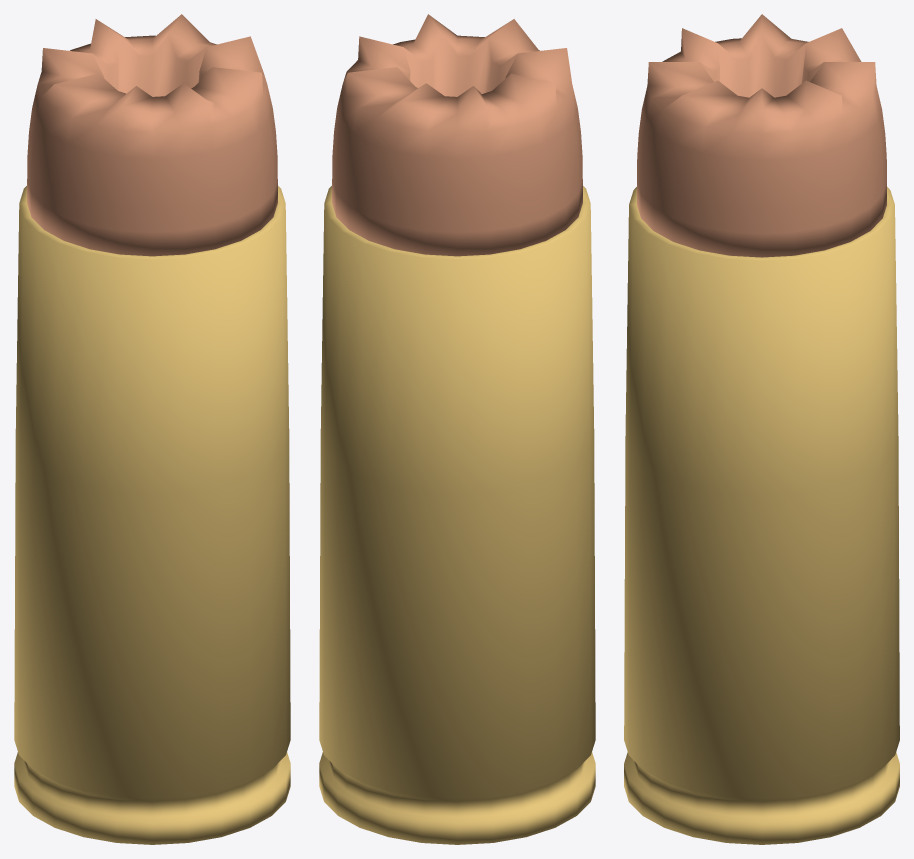
3 renders of one model, left to right at view 1: azimuth 30°, elevation 25°; view 2: azimuth 150°, elevation 25°; view 3: azimuth 270°, elevation 25°, orthographic.
Parts seen in each view (by area): view 1: vaina, bala_flor; view 2: vaina, bala_flor; view 3: vaina, bala_flor.
Boxes of the visible parts, x1,y1,x2,y2 form: vaina: [14, 186, 290, 844]; bala_flor: [27, 14, 277, 256]; vaina: [319, 186, 595, 844]; bala_flor: [332, 14, 582, 256]; vaina: [624, 187, 899, 844]; bala_flor: [637, 14, 886, 257].
Bounding box in the file's own units: 0.014 × 0.0406 × 0.014.
